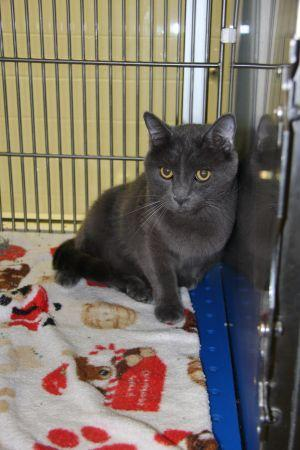rblue: (121, 87, 263, 241)
